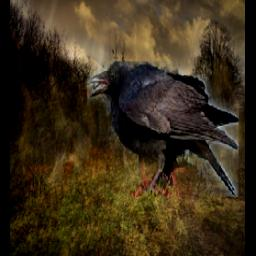Crow: (88, 61, 239, 197)
